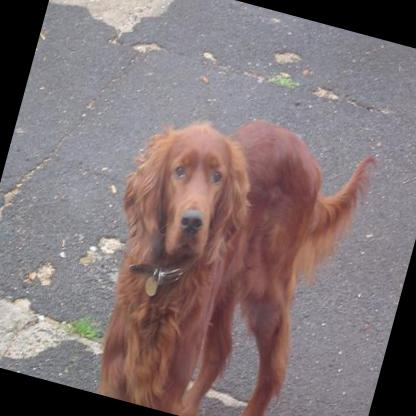Irish_setter: (69, 87, 380, 416)
